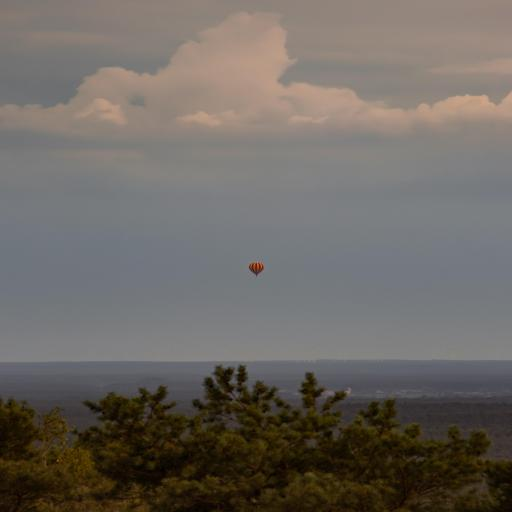hot air ballon: (248, 262, 264, 276)
